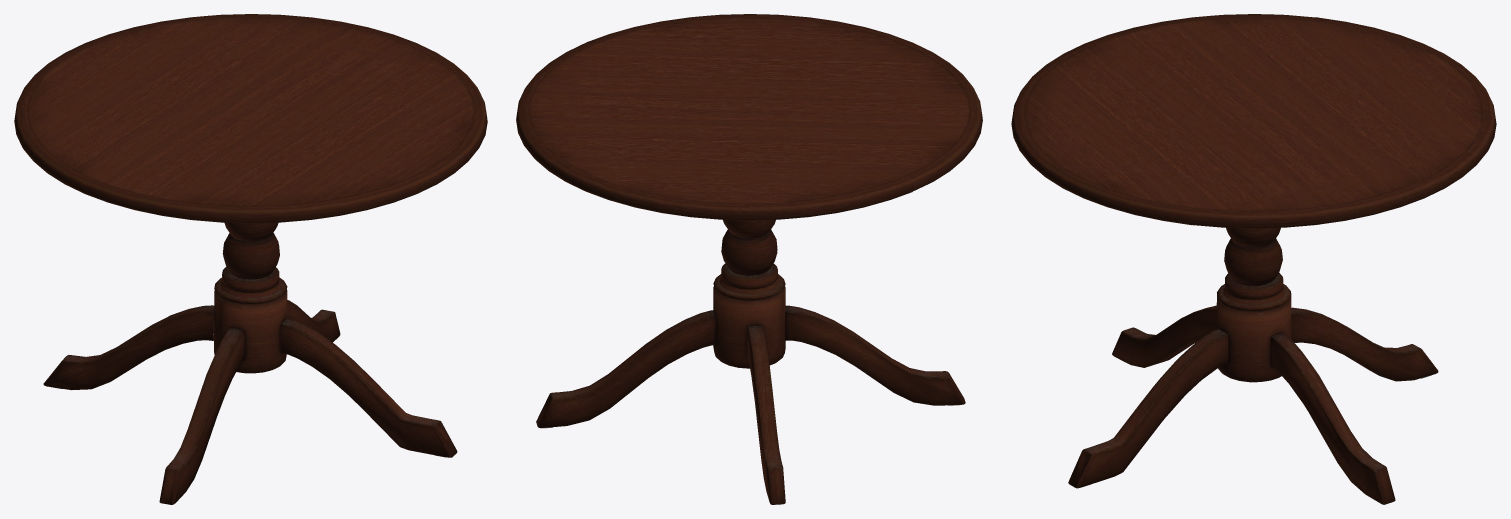
Rendered from round_wooden_table_01.glb.
The picture shows the model from 3 angles, left to right: view 1: azimuth 30°, elevation 25°; view 2: azimuth 150°, elevation 25°; view 3: azimuth 270°, elevation 25°; orthographic projection. The views are drawn at different scales.
Visible parts, largest first — view 1: round_wooden_table_01.001; view 2: round_wooden_table_01.001; view 3: round_wooden_table_01.001.
Boxes of the visible parts, bbox=[...] form: round_wooden_table_01.001: bbox=[14, 14, 487, 504]; round_wooden_table_01.001: bbox=[516, 14, 982, 504]; round_wooden_table_01.001: bbox=[1011, 14, 1496, 504].
Size of the model in its own units: 1.4 by 1 by 1.4.
Materials: 1 (1 with a texture image).
